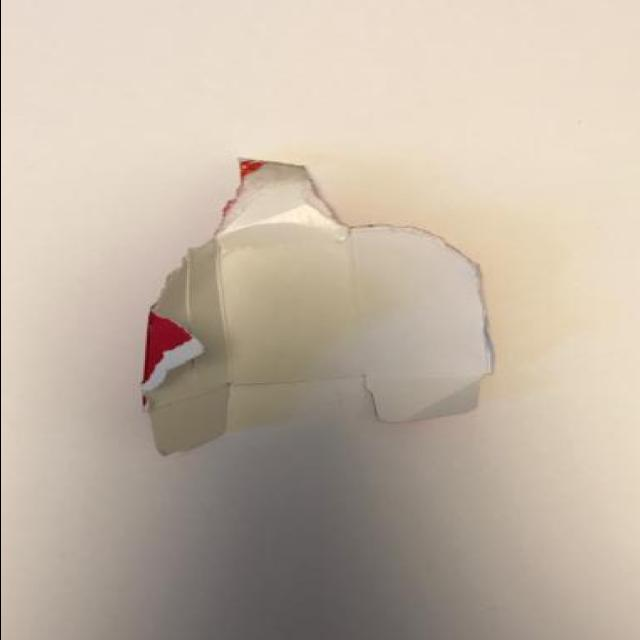kertas: (141, 156, 495, 454)
